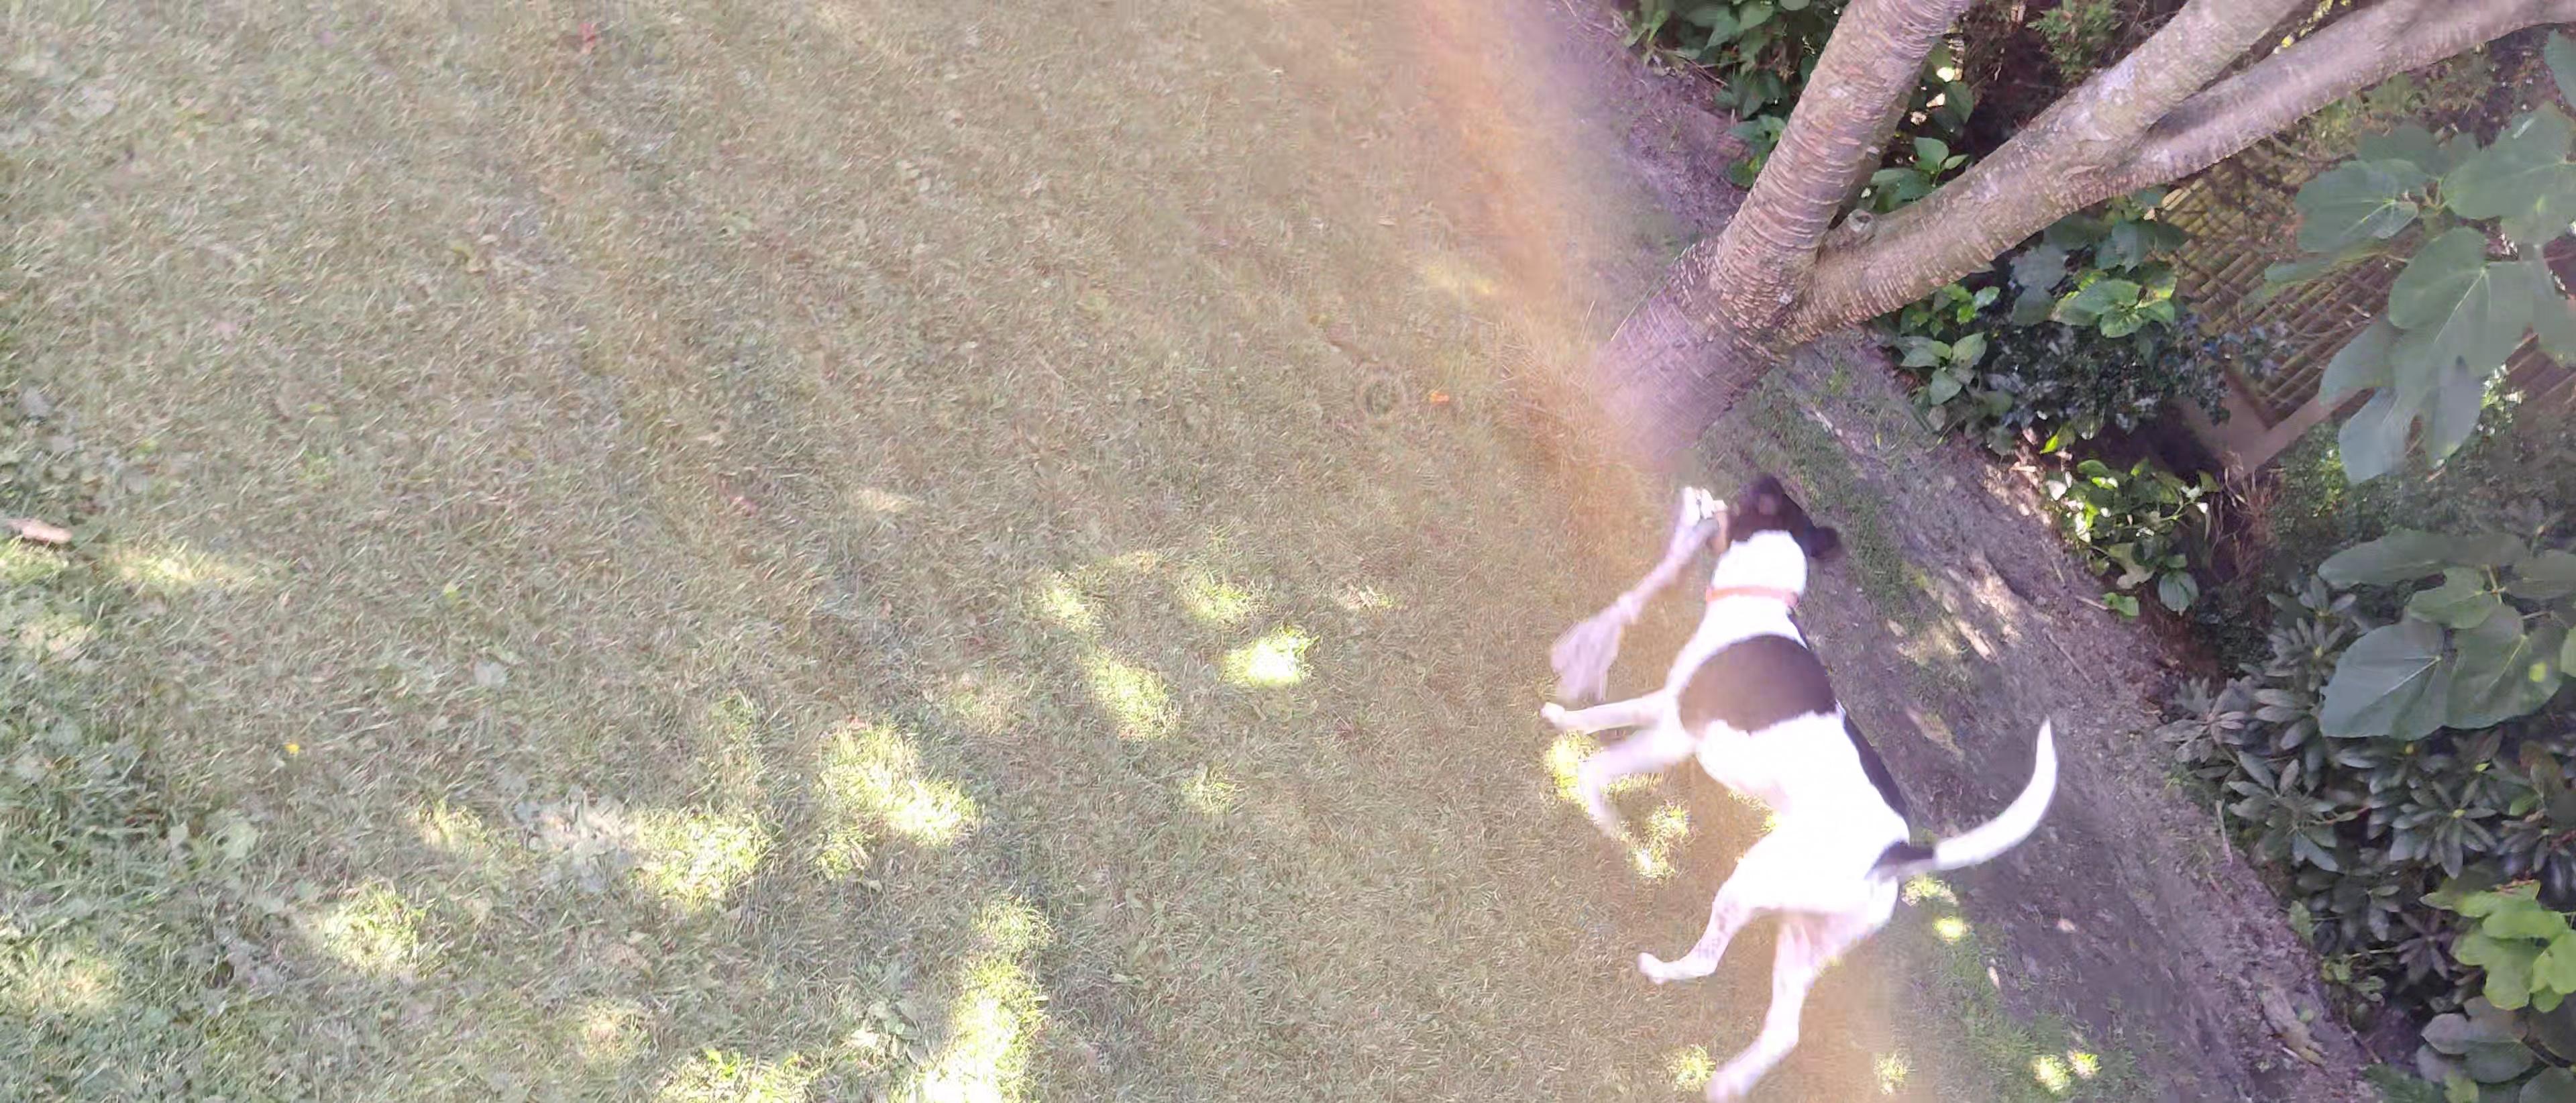Dog: (1526, 460, 2070, 1103)
